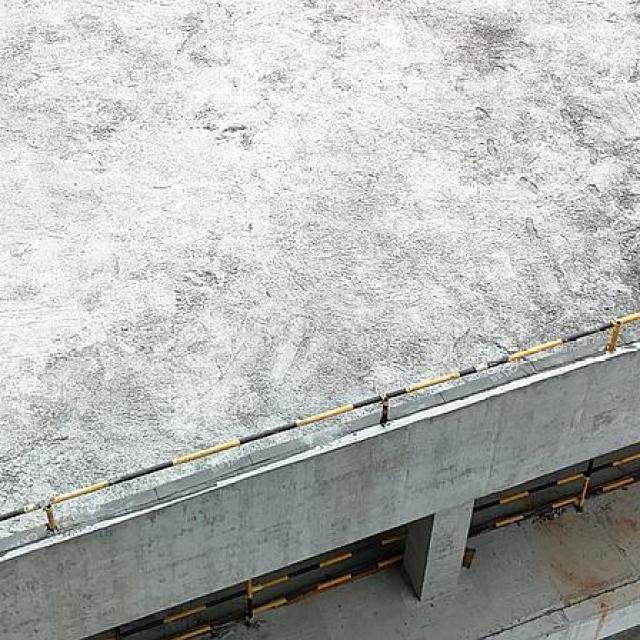edge_guardrail: (0, 310, 640, 530), (103, 533, 408, 640), (467, 454, 640, 539)
